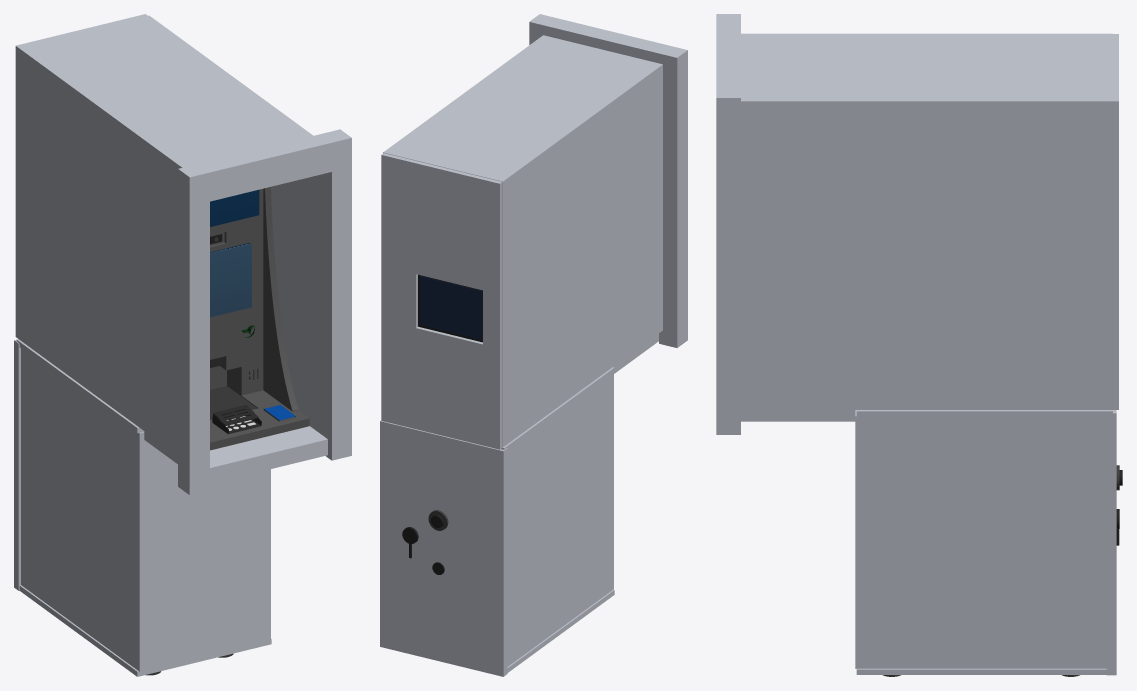
3 renders of one model, left to right at view 1: azimuth 30°, elevation 25°; view 2: azimuth 150°, elevation 25°; view 3: azimuth 270°, elevation 25°, orthographic. The views are drawn at different scales.
Parts seen in each view (by area): view 1: shell, panel, safeDoor, door, pin, gate; view 2: shell, door, safeDoor, backScreen; view 3: shell, safeDoor, door.
Part boxes in pixels (x1,y1,x2,y2): shell: (16, 15, 351, 676); panel: (210, 187, 309, 450); safeDoor: (14, 339, 20, 590); door: (15, 14, 147, 338); pin: (212, 404, 261, 433); gate: (210, 386, 257, 419); shell: (383, 14, 687, 672); door: (381, 153, 502, 449); safeDoor: (380, 420, 507, 676); backScreen: (418, 274, 482, 342); shell: (716, 14, 1112, 676); safeDoor: (1106, 410, 1122, 675); door: (1113, 34, 1118, 409).
Bounding box in the file's own units: 0.6403 × 2.13 × 1.31.
